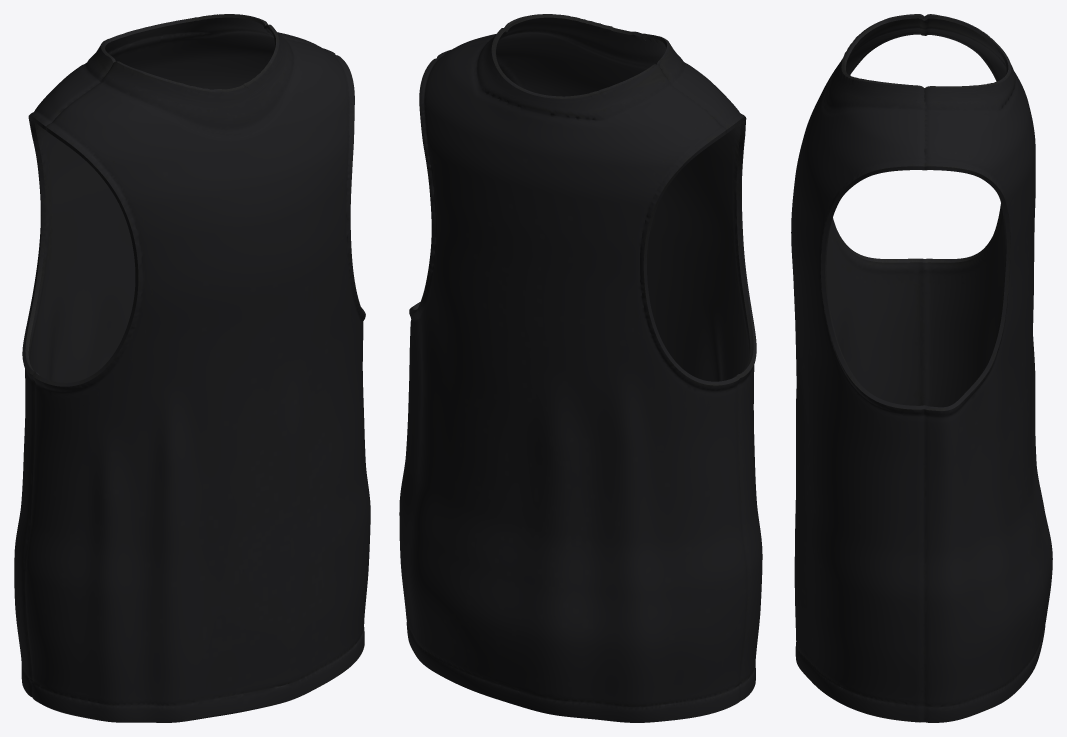
The model's file is 03_camiseta_muscle_pbr.glb.
3 views of the same model, side by side, from view 1: azimuth 30°, elevation 25°; view 2: azimuth 150°, elevation 25°; view 3: azimuth 270°, elevation 25° (orthographic). The views are drawn at different scales.
Visible parts, largest first — view 1: Camiseta PBR; view 2: Camiseta PBR; view 3: Camiseta PBR.
Boxes of the visible parts, x1,y1,x2,y2 form: Camiseta PBR: (14, 14, 370, 722); Camiseta PBR: (399, 14, 762, 722); Camiseta PBR: (791, 14, 1052, 722).
Size of the model in its own units: 0.4168 by 0.7352 by 0.2912.
Materials: 1 (1 with a texture image).
